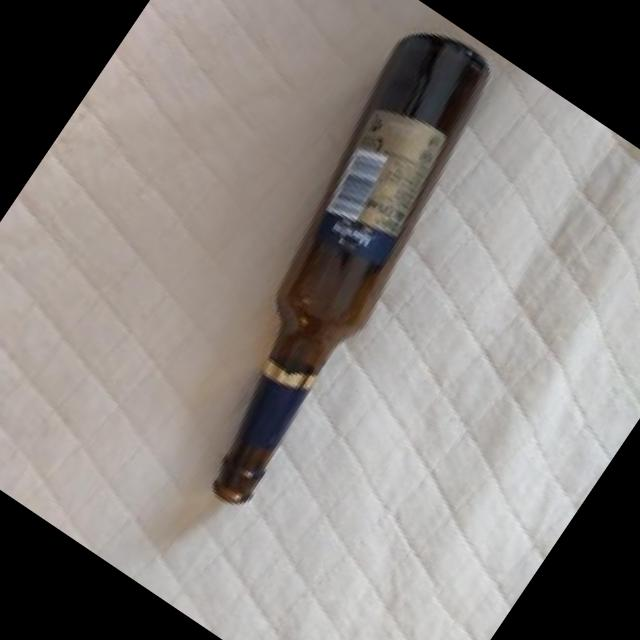BotolKaca: (128, 13, 530, 517)
